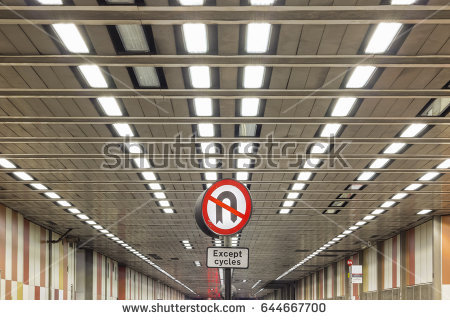No_u_turn: (202, 179, 252, 236)
